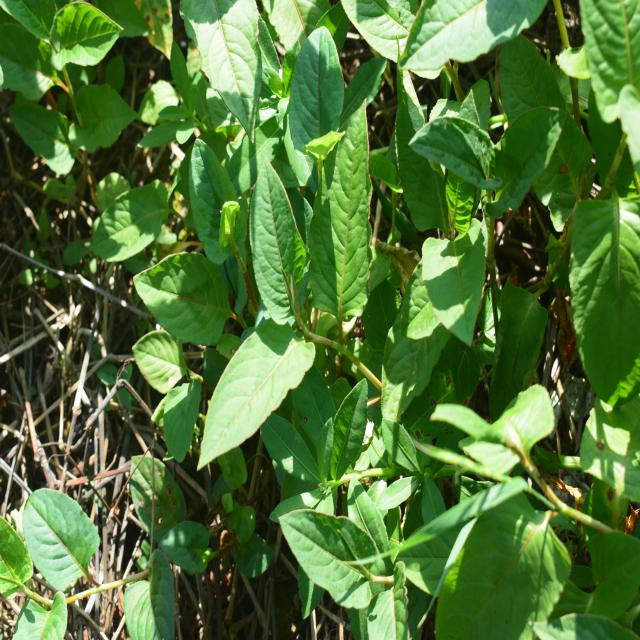Chinese_knotweed: (203, 102, 398, 448)
